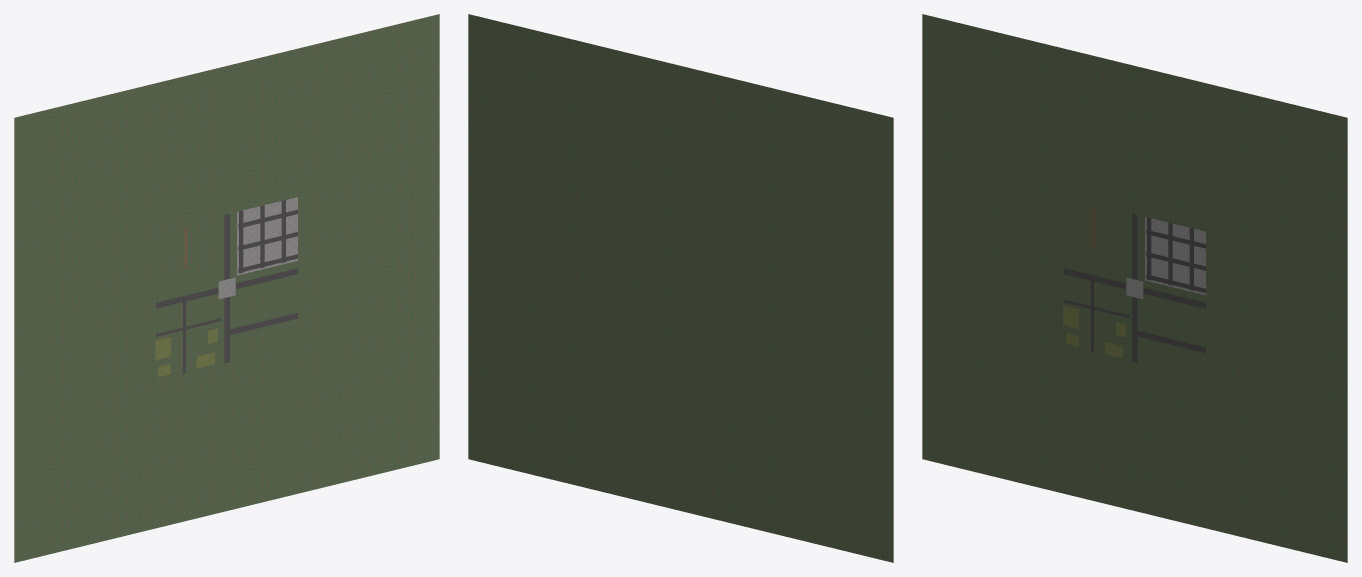
File: ground.obj
The picture shows the model from 3 angles, left to right: view 1: azimuth 30°, elevation 25°; view 2: azimuth 150°, elevation 25°; view 3: azimuth 330°, elevation 25°; orthographic projection.
Bounding box in the file's own units: 600 × 600 × 0.035.
5 materials, 5 textured.
